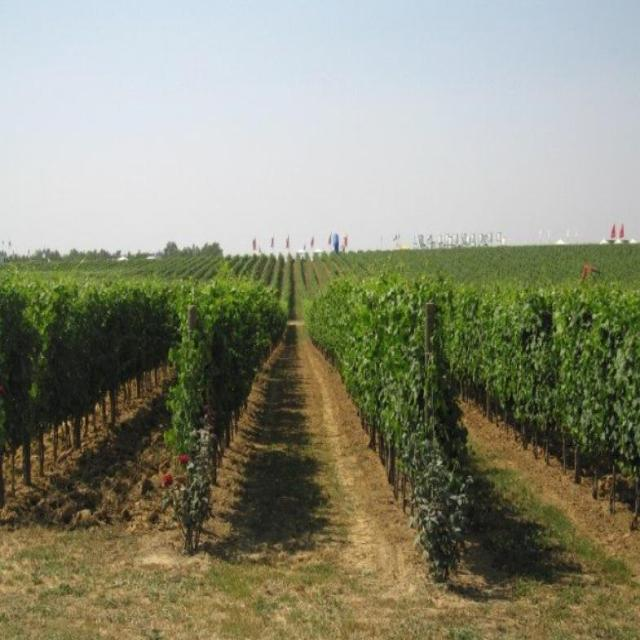row: (189, 316, 427, 577), (1, 375, 175, 559), (456, 426, 640, 565)
